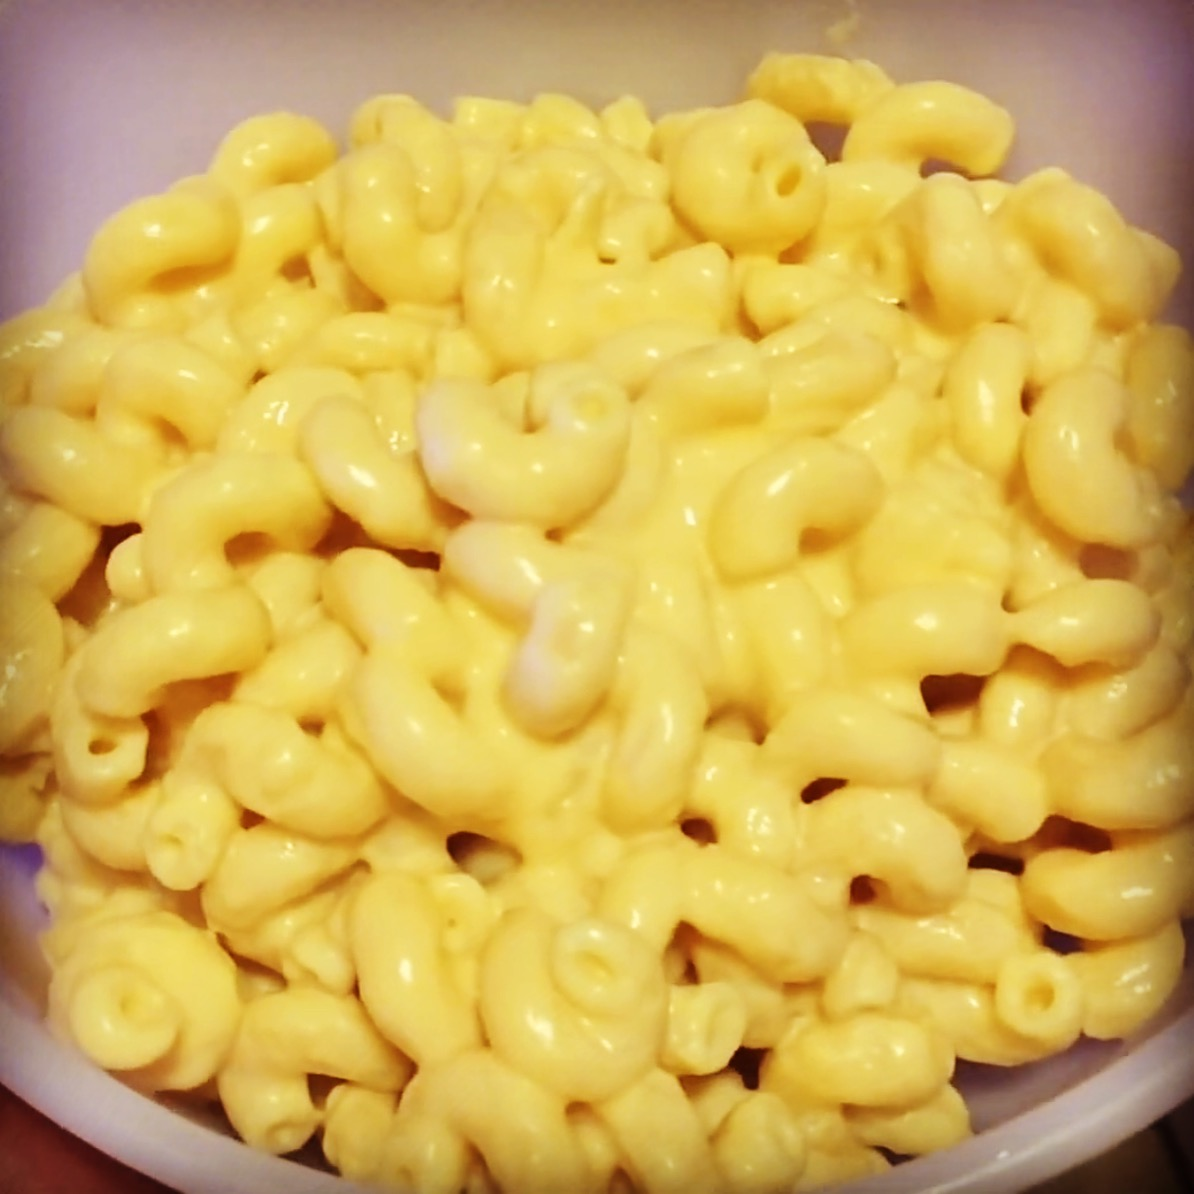macncheese: (35, 107, 1194, 1031)
